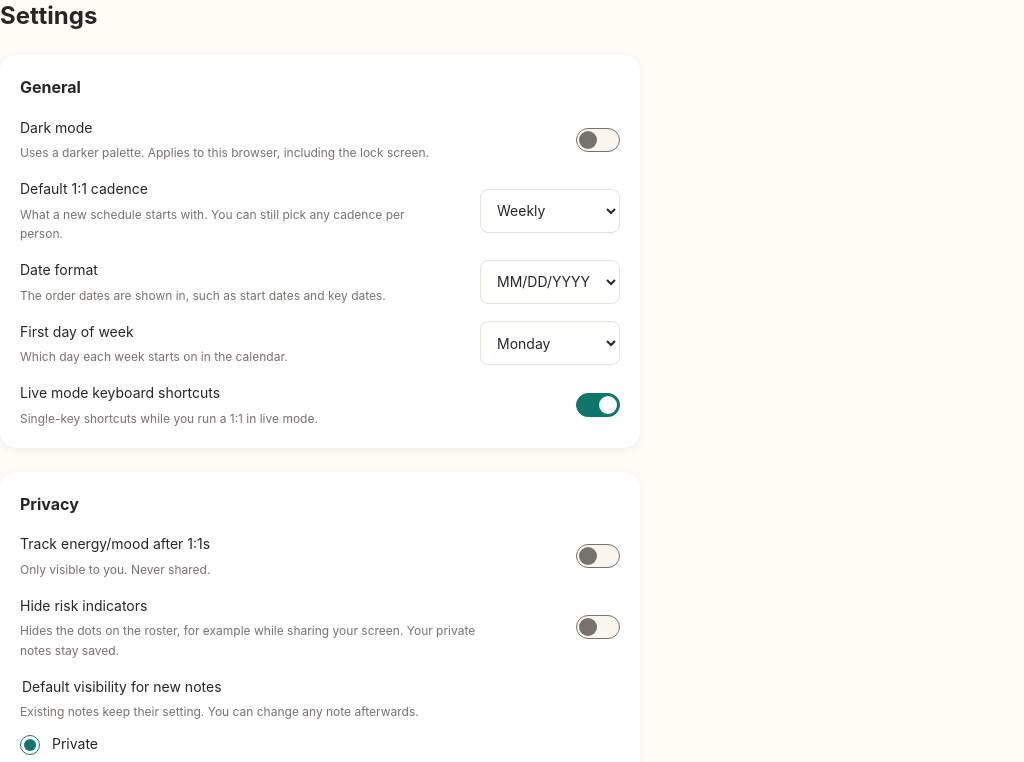
Test: mood saving failures › keeps the switch off and says so when the setting cannot be saved
Click the switch labelled "Track energy/mood after 1:1s": [115, 544] box x1=20 y1=536 x2=210 y2=552
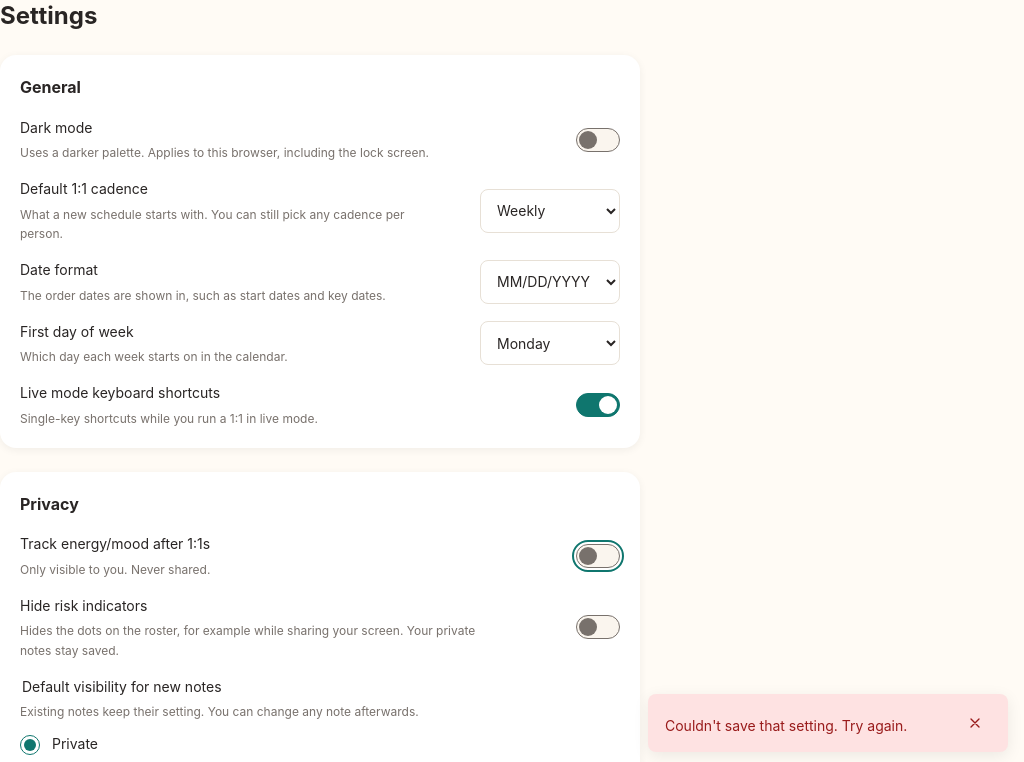
Expected: the text "Couldn't save that setting. Try again." is shown, x1=665 y1=717 x2=907 y2=734
